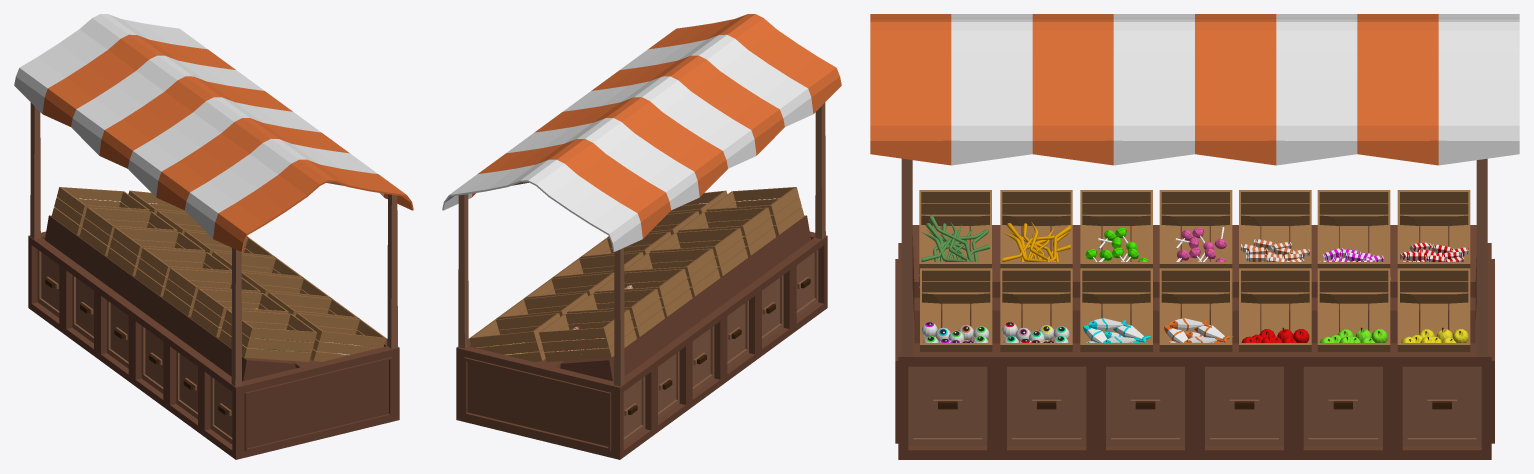
Rendered from puestoIngredientes2.fbx.
3 renders of one model, left to right at view 1: azimuth 30°, elevation 25°; view 2: azimuth 150°, elevation 25°; view 3: azimuth 270°, elevation 25°, orthographic. The views are drawn at different scales.
Visible parts, largest first — view 1: Base, ToldoColor, ToldoBlanco, Cajones, Postes, Cube.2398, Cube.2391, Cube.2404, Cube.2402, Cube.2401, Cube.2403, Cube.2400 (+8 smaller); view 2: Base, ToldoBlanco, ToldoColor, Cajones, Postes, Cube.2404, Cube.2397, Cube.2398, Cube.2399, Cube.2401, Cube.2400, Cube.2403 (+8 smaller); view 3: ToldoColor, ToldoBlanco, Cajones, Base, Cube.2396, Cube.2397, Cube.2395, Cube.2403, Cube.2392, Cube.2391, Cube.2394, Cube.2393 (+8 smaller).
Boxes of the visible parts, box(x1,y1,x2,y2) form: Base: box(28, 204, 399, 459); ToldoColor: box(42, 34, 413, 251); ToldoBlanco: box(14, 14, 383, 238); Cajones: box(37, 250, 232, 444); Postes: box(30, 102, 397, 386); Cube.2398: box(219, 309, 316, 361); Cube.2391: box(295, 313, 386, 361); Cube.2404: box(51, 187, 149, 235); Cube.2402: box(107, 227, 205, 275); Cube.2401: box(135, 248, 231, 296); Cube.2403: box(79, 207, 177, 255); Cube.2400: box(162, 268, 260, 316); Base: box(456, 204, 827, 459); ToldoBlanco: box(442, 34, 813, 251); ToldoColor: box(472, 14, 841, 238); Cajones: box(623, 250, 818, 444); Postes: box(458, 102, 825, 386); Cube.2404: box(539, 309, 636, 361); Cube.2397: box(469, 313, 559, 361); Cube.2398: box(706, 187, 804, 235); Cube.2399: box(678, 207, 775, 255); Cube.2401: box(624, 248, 720, 296); Cube.2400: box(650, 228, 747, 276); Cube.2403: box(567, 289, 664, 337); ToldoColor: box(870, 14, 1438, 165); ToldoBlanco: box(951, 14, 1519, 165); Cajones: box(908, 366, 1481, 446); Base: box(895, 225, 1494, 459); Cube.2396: box(1317, 268, 1390, 351); Cube.2397: box(1397, 268, 1470, 351); Cube.2395: box(1239, 268, 1311, 351); Cube.2403: box(1317, 190, 1390, 268); Cube.2392: box(1000, 268, 1072, 351); Cube.2391: box(920, 268, 992, 351); Cube.2394: box(1159, 268, 1232, 351); Cube.2393: box(1080, 268, 1152, 351).
Bounding box in the file's own units: 720 × 1065 × 1645.
